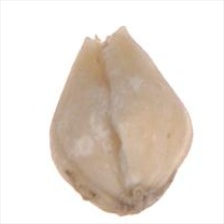L1: (113, 186, 161, 217), (82, 24, 127, 49)
L2: (49, 26, 194, 215)
